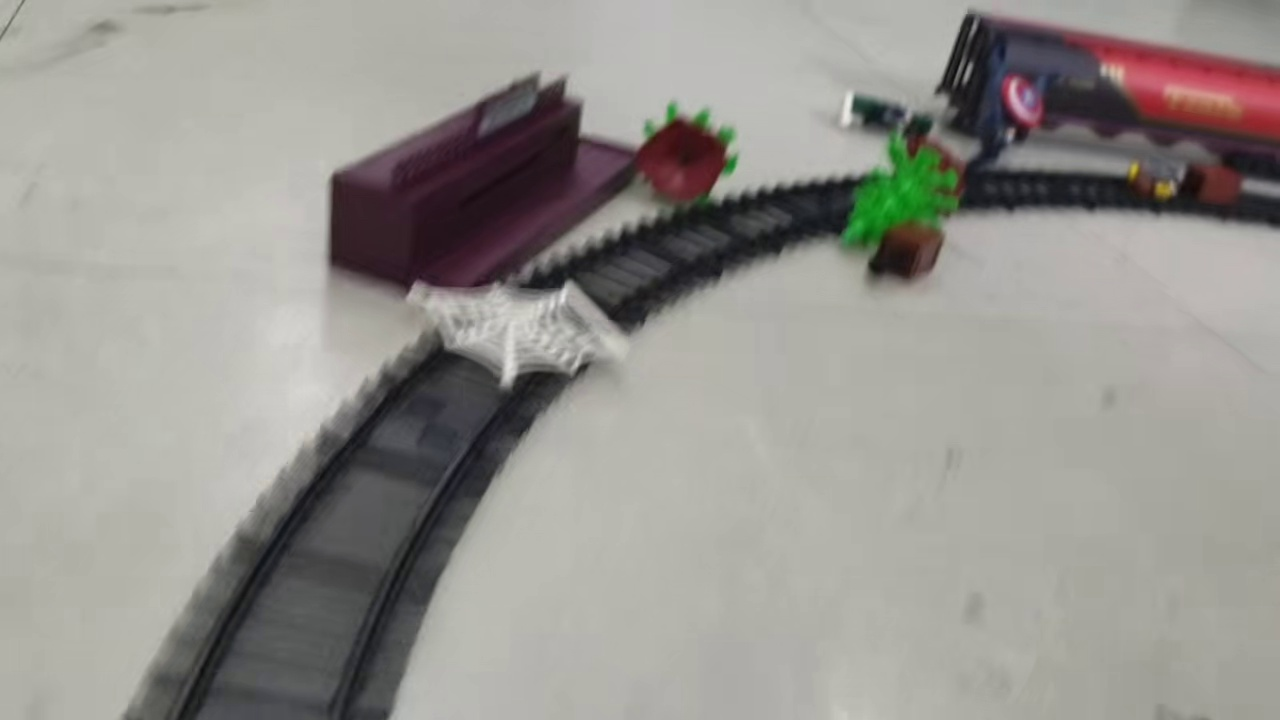box: (863, 218, 950, 279), (1178, 158, 1244, 206)
people: (956, 44, 1039, 171), (838, 84, 938, 140), (1119, 149, 1186, 197)
tree: (831, 131, 963, 248), (637, 99, 740, 207)
web: (402, 276, 635, 392)
